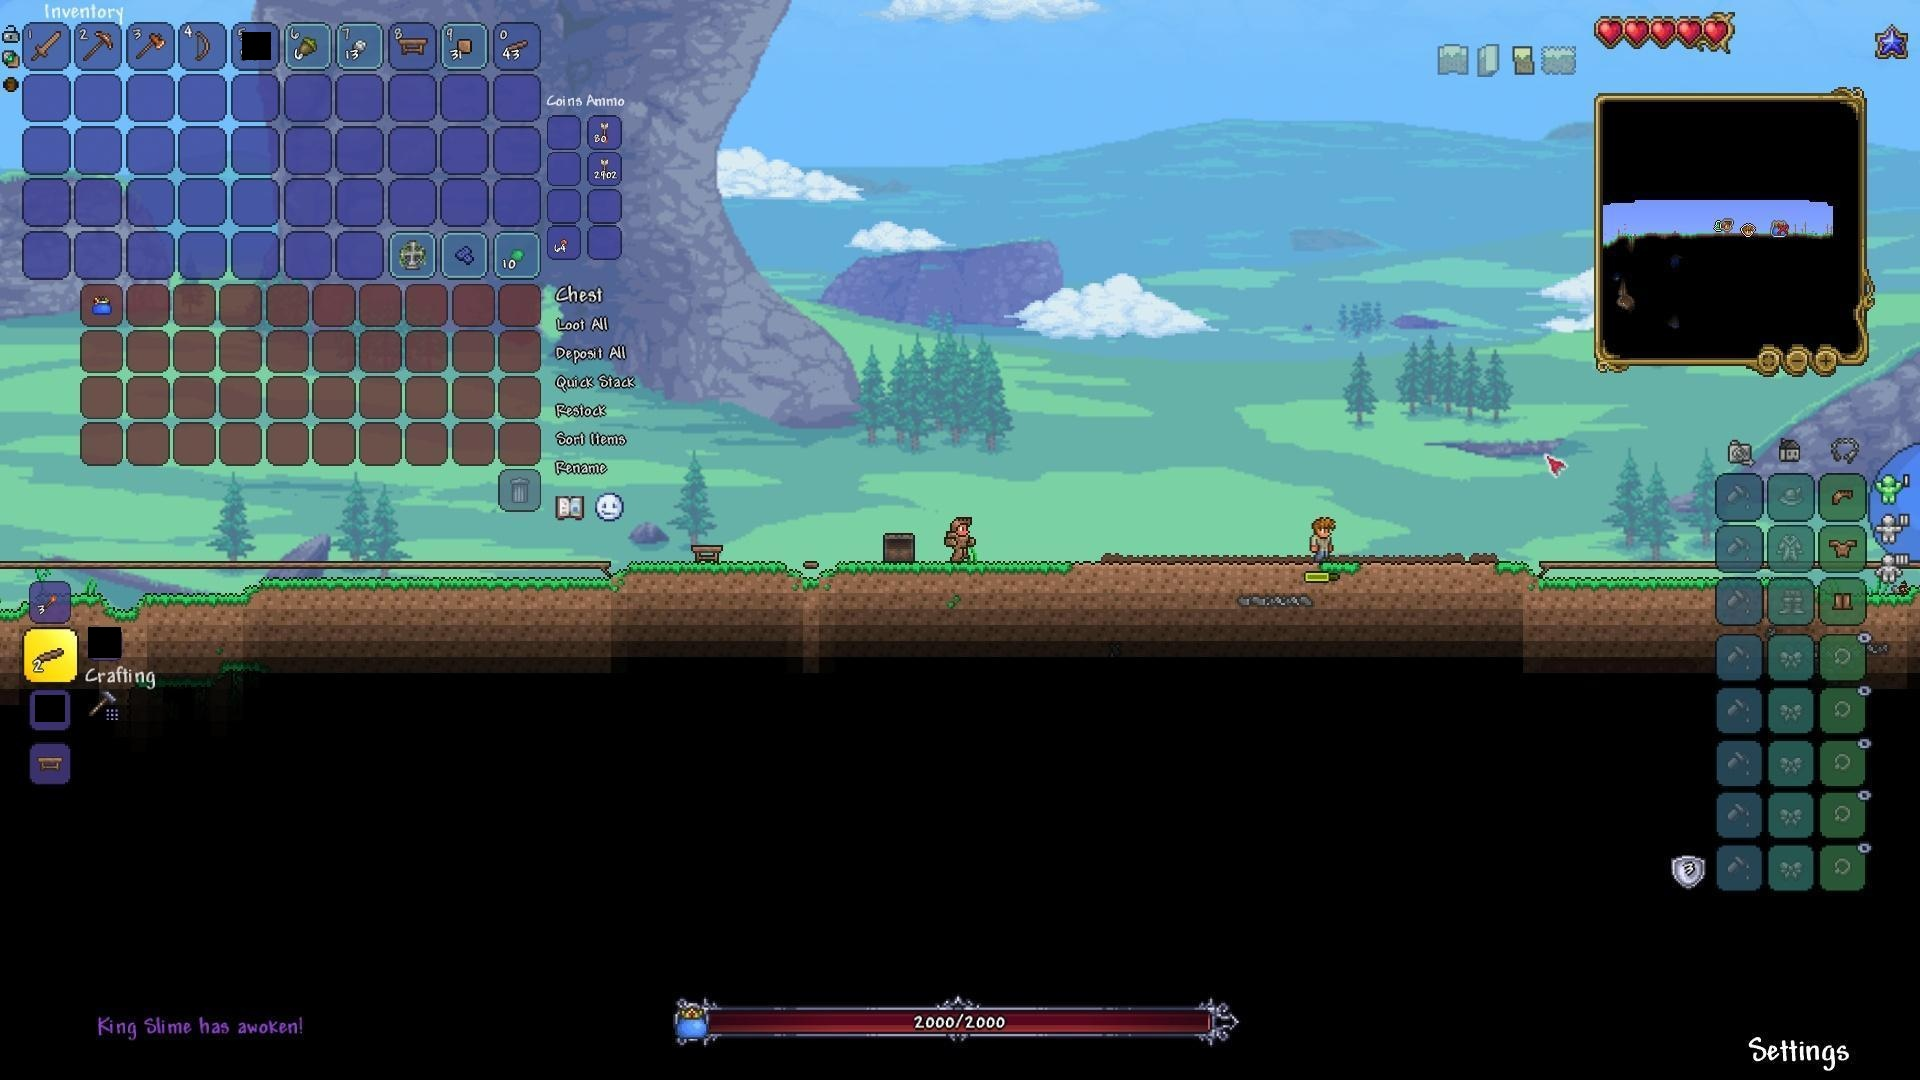breastplate: (1829, 535, 1859, 556)
helmet: (1826, 483, 1859, 510)
legs: (1830, 585, 1855, 615)
workbench: (392, 33, 429, 58), (36, 752, 67, 775), (690, 541, 727, 560)
